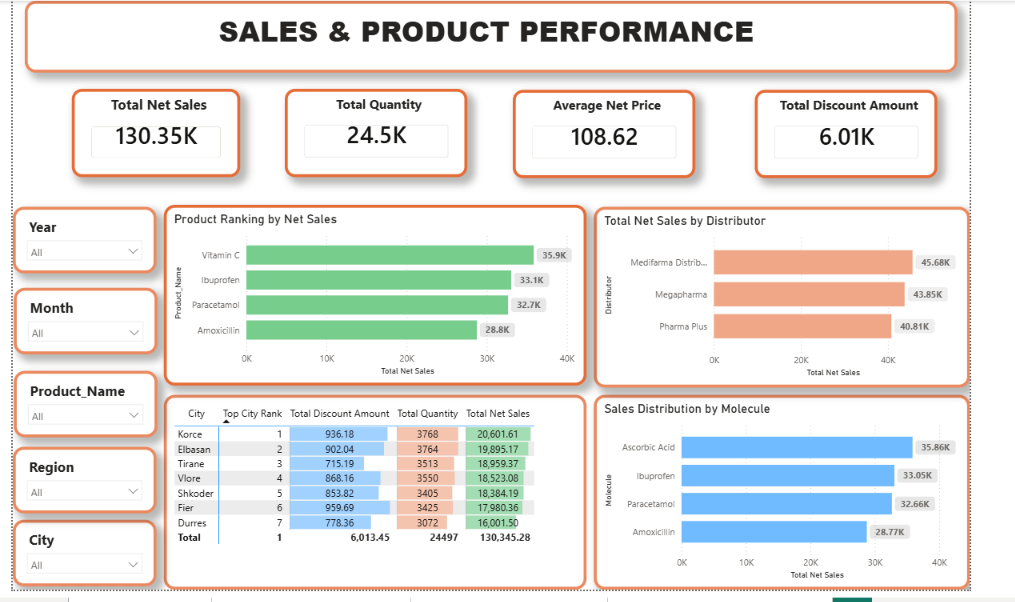

The dashboard page shown, as its layout file describes it:
{"tool":"powerbi","page":{"name":"Sales & Product Performance","canvas":[1300,800],"ordinal":1},"visuals":[{"type":"pivotTable","fields":{"Rows":["Pharmacy dataset.City"],"Values":["_measures.Top City Rank","_measures.Total Discount Amount","_measures.Total Quantity","_measures.Total Net Sales"]},"box":[204.9,535.2,574.2,264.8],"z":0},{"type":"slicer","fields":{"Values":["Pharmacy dataset.Product_Name"]},"box":[1.4,503.1,195,90],"z":1000},{"type":"slicer","fields":{"Values":["Calendar Table.Month Name"]},"box":[1.4,390.2,195.1,90],"z":2000},{"type":"slicer","fields":{"Values":["Calendar Table.Year"]},"box":[0,280.1,195.1,90],"z":3000},{"type":"slicer","fields":{"Values":["Pharmacy dataset.City"]},"box":[0,705.2,195.1,90],"z":4000},{"type":"clusteredBarChart","title":"Sales Distribution by Molecule","fields":{"Category":["Pharmacy dataset.Molecule"],"Y":["_measures.Total Net Sales"]},"box":[788.8,535.2,511.5,264.8],"z":5000},{"type":"clusteredBarChart","fields":{"Category":["Pharmacy dataset.Distributor"],"Y":["_measures.Total Net Sales"]},"box":[788.8,280.1,511.5,245.3],"z":6000},{"type":"slicer","fields":{"Values":["Pharmacy dataset.Region"]},"box":[0,606,195.1,90],"z":7000},{"type":"textbox","box":[16.7,0,1266.8,97.6],"z":8000},{"type":"cardVisual","title":"Total Net Sales","fields":{"Data":["_measures.Total Net Sales"]},"box":[80.8,119.9,228.6,120],"z":9000},{"type":"cardVisual","title":"Total Quantity","fields":{"Data":["_measures.Total Quantity"]},"box":[369.3,119.9,248,120],"z":10000},{"type":"cardVisual","title":"Average Net Price","fields":{"Data":["_measures.Average Net Price"]},"box":[678.7,121.2,248,120],"z":11000},{"type":"cardVisual","title":"Total Discount Amount","fields":{"Data":["_measures.Total Discount Amount"]},"box":[1007.6,121.2,248,120],"z":12000},{"type":"clusteredBarChart","title":"Product Ranking by Net Sales","fields":{"Category":["Pharmacy dataset.Product_Name"],"Y":["_measures.Total Net Sales"]},"box":[204.9,277.3,574.2,245.3],"z":13000}]}

Visuals, with their boxes in screenshot pixels (x1, y1, x2, y2):
pivotTable - Pharmacy dataset.City x _measures.Top City Rank: l=160, t=395, r=587, b=592
slicer - Pharmacy dataset.Product_Name: l=9, t=371, r=154, b=438
slicer - Calendar Table.Month Name: l=9, t=287, r=154, b=354
slicer - Calendar Table.Year: l=8, t=205, r=153, b=272
slicer - Pharmacy dataset.City: l=8, t=521, r=153, b=588
"Sales Distribution by Molecule" clusteredBarChart: l=594, t=395, r=974, b=592
clusteredBarChart - Pharmacy dataset.Distributor x _measures.Total Net Sales: l=594, t=205, r=974, b=388
slicer - Pharmacy dataset.Region: l=8, t=448, r=153, b=514
textbox: l=20, t=0, r=961, b=70
"Total Net Sales" cardVisual: l=68, t=86, r=238, b=176
"Total Quantity" cardVisual: l=282, t=86, r=467, b=176
"Average Net Price" cardVisual: l=512, t=87, r=696, b=177
"Total Discount Amount" cardVisual: l=756, t=87, r=941, b=177
"Product Ranking by Net Sales" clusteredBarChart: l=160, t=203, r=587, b=386
